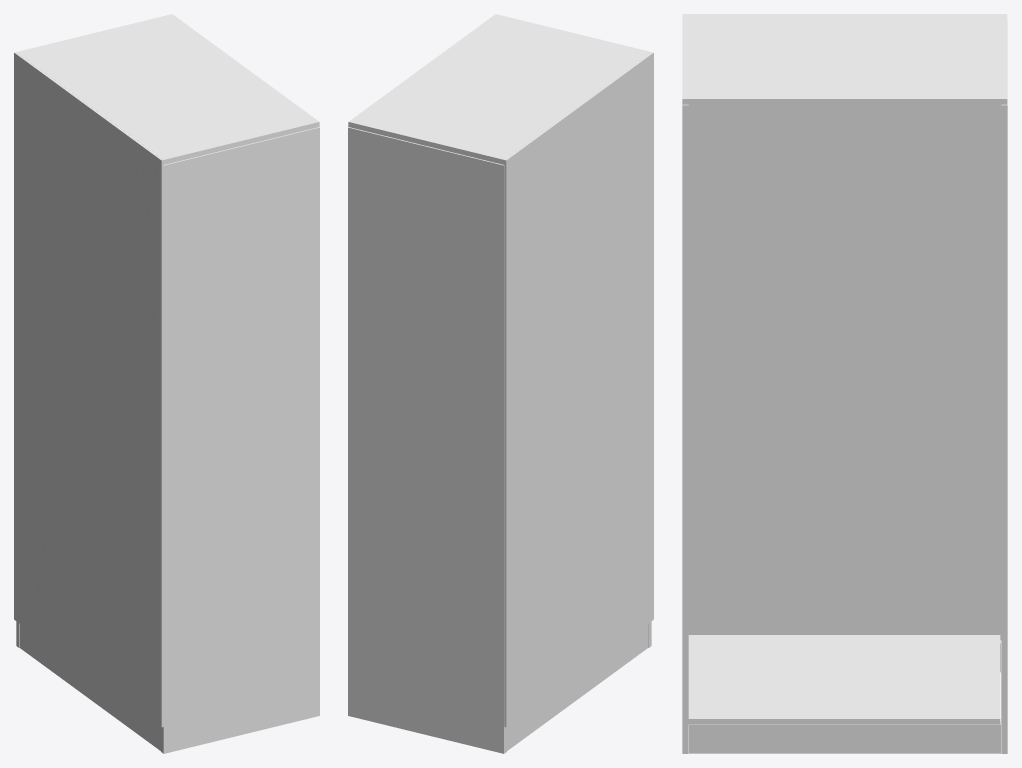
The model's file is TA_DEMO.glb.
The picture shows the model from 3 angles, left to right: view 1: azimuth 30°, elevation 25°; view 2: azimuth 150°, elevation 25°; view 3: azimuth 270°, elevation 25°; orthographic projection. The views are drawn at different scales.
Visible parts, largest first — view 1: BIA-TRAI-CHECK, HAU, NOC-CHECK, CHAN-SAU; view 2: BIA-PHAI-CHECK, HAU, NOC-CHECK, CHAN-SAU; view 3: HAU, NOC-CHECK, DAY-CHECK, CHAN-TRUOC, BIA-PHAI-CHECK, BIA-TRAI-CHECK.
Boxes of the visible parts, x1,y1,x2,y2 form: BIA-TRAI-CHECK: [161, 127, 319, 753]; HAU: [14, 52, 163, 727]; NOC-CHECK: [16, 14, 319, 164]; CHAN-SAU: [19, 624, 160, 750]; BIA-PHAI-CHECK: [348, 127, 506, 753]; HAU: [504, 52, 653, 727]; NOC-CHECK: [348, 14, 651, 164]; CHAN-SAU: [507, 624, 648, 750]; HAU: [682, 14, 1007, 640]; NOC-CHECK: [682, 15, 1007, 104]; DAY-CHECK: [688, 635, 1000, 724]; CHAN-TRUOC: [689, 722, 1000, 753]; BIA-PHAI-CHECK: [1001, 21, 1007, 753]; BIA-TRAI-CHECK: [682, 104, 688, 753].
Bounding box in the file's own units: 0.559 × 2 × 0.9005.
Materials: 2 (2 with a texture image).
